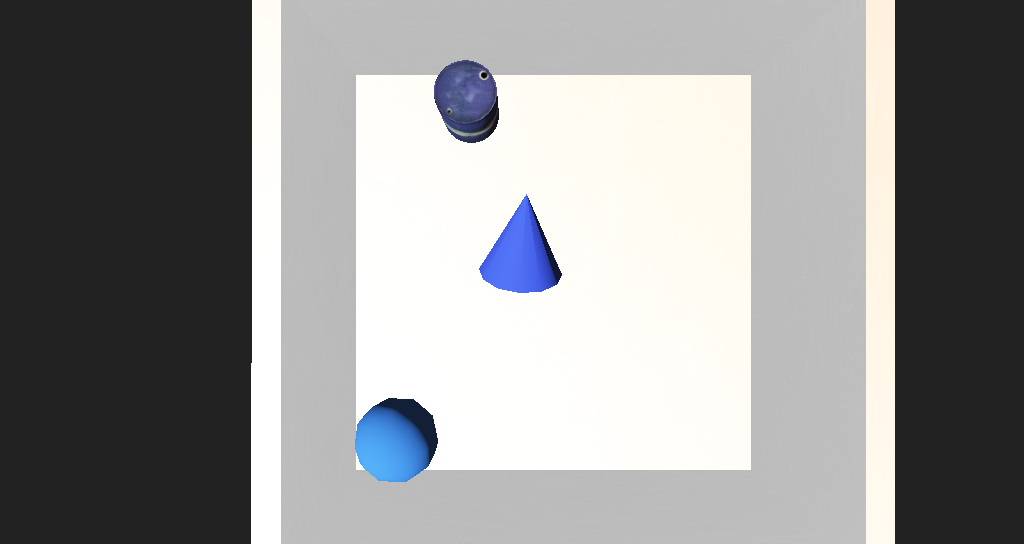cone: (411, 157, 465, 196)
cylinder: (445, 212, 512, 284)
sphere: (350, 336, 418, 379)
